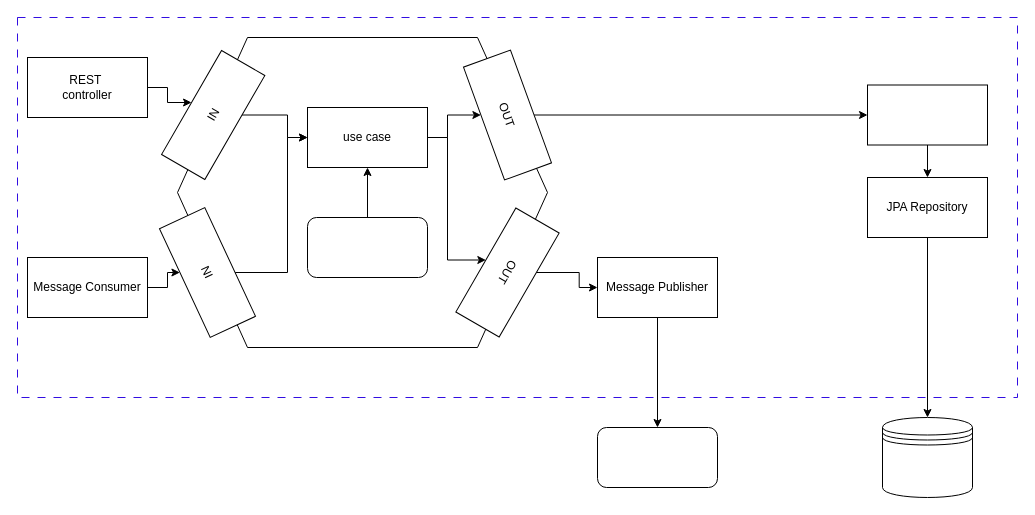
Image size: 1035x515. Some labels were removed from this diagram. Here are the shapes that lost their labels. From the top down, the centre of each, then its label:
point (927, 114): Persistence Adapter
point (367, 247): Domain
point (657, 457): Kafka broker
point (927, 457): PostgreSQL
